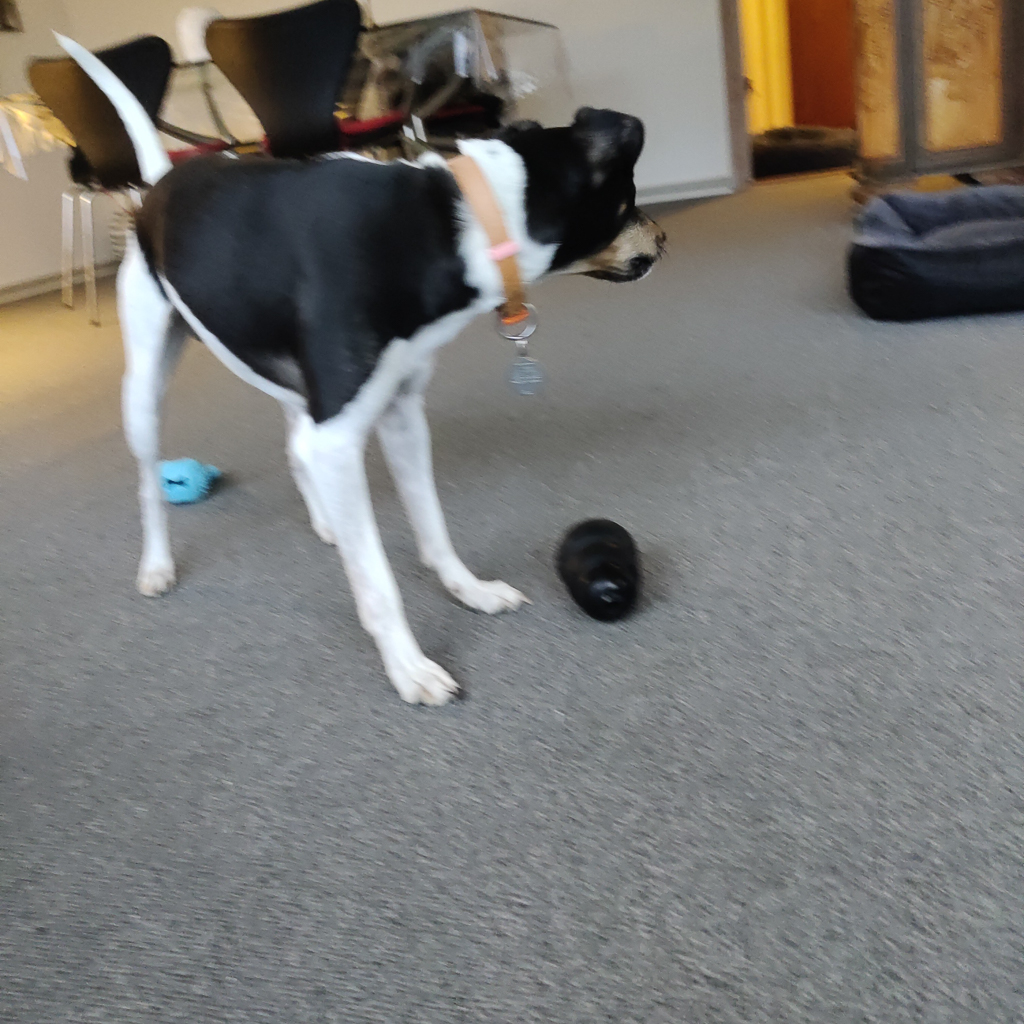Dog: (40, 11, 698, 745)
